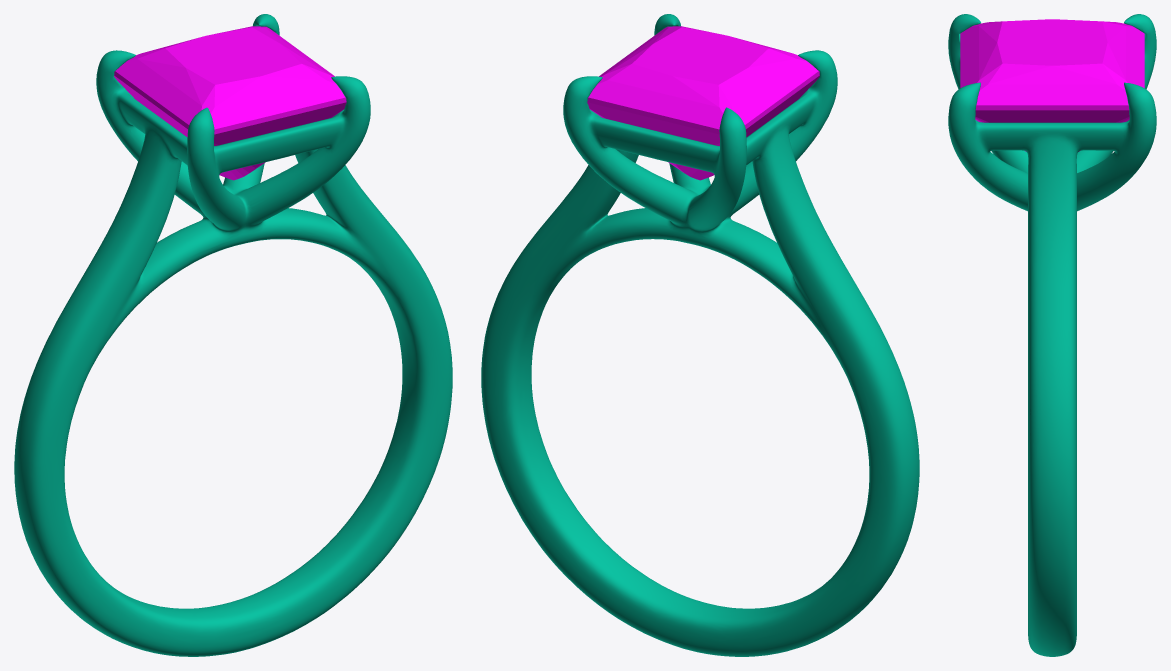
File: BE12112_PR_200ct_RENDER.glb
The picture shows the model from 3 angles, left to right: view 1: azimuth 30°, elevation 25°; view 2: azimuth 150°, elevation 25°; view 3: azimuth 270°, elevation 25°; orthographic projection.
Visible parts, largest first — view 1: Metal 01, CS_Diamond_Princess; view 2: Metal 01, CS_Diamond_Princess; view 3: Metal 01, CS_Diamond_Princess.
Part boxes in pixels (<box>): Metal 01: <box>14,14,452,656</box>; CS_Diamond_Princess: <box>114,26,346,180</box>; Metal 01: <box>481,14,919,656</box>; CS_Diamond_Princess: <box>587,26,819,180</box>; Metal 01: <box>948,14,1156,656</box>; CS_Diamond_Princess: <box>960,19,1144,151</box>.
Bounding box in the file's own units: 20.13 × 26.6 × 8.5.
